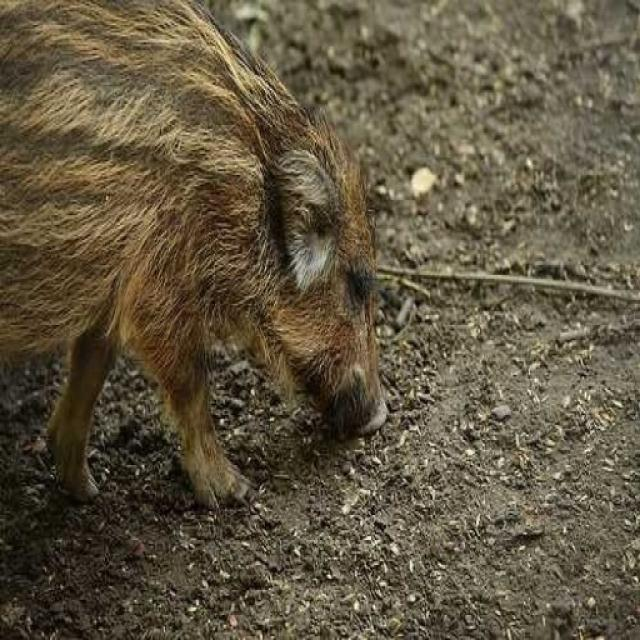pig: (6, 0, 432, 559)
